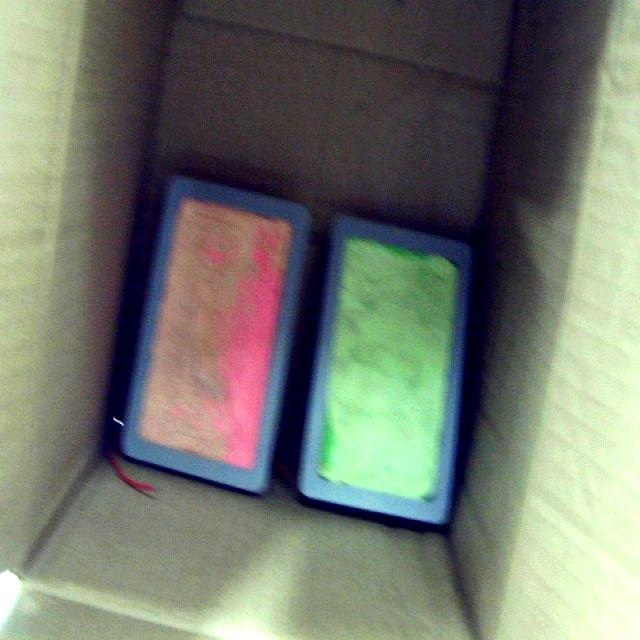block: (120, 179, 310, 495), (297, 218, 471, 525)
